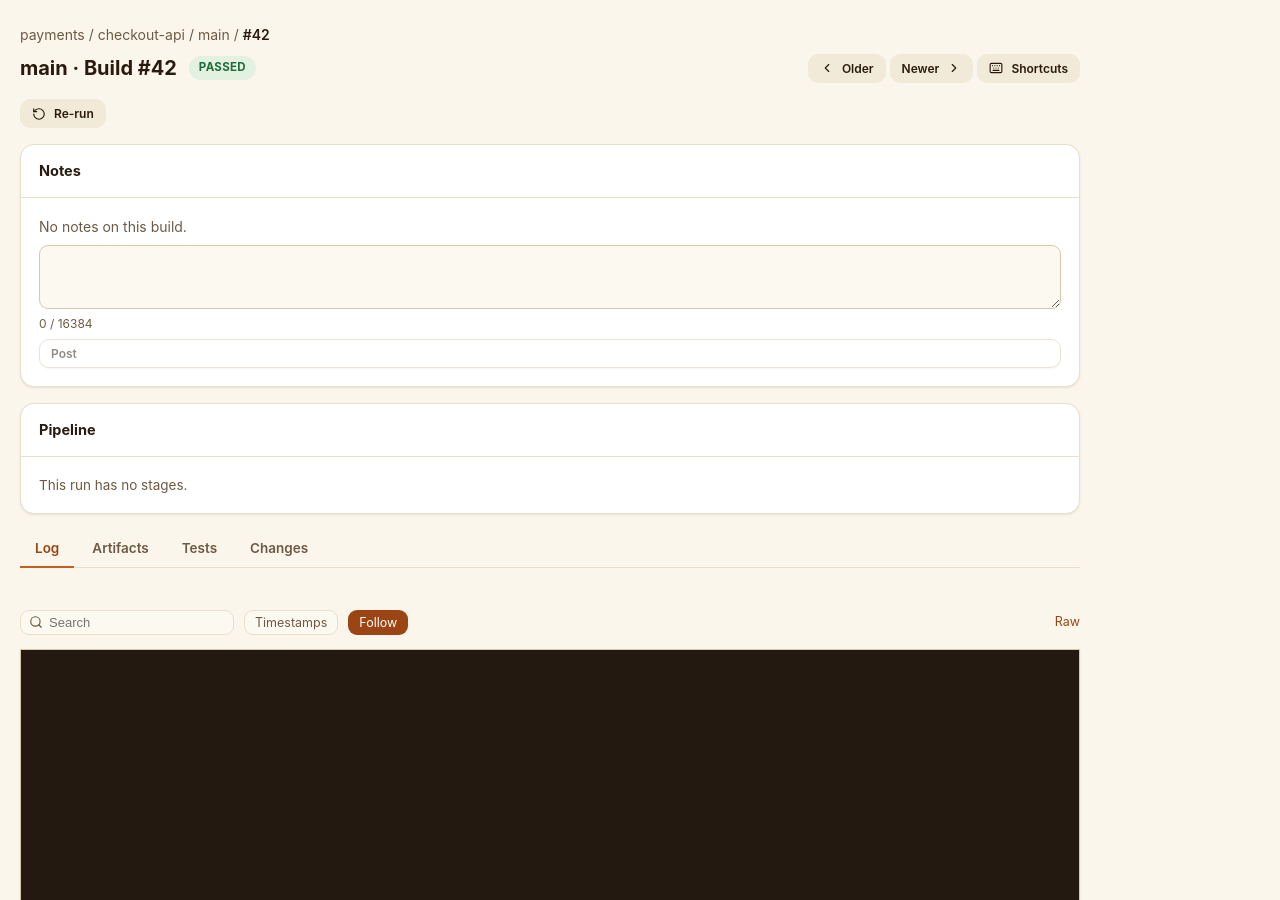
BuildPage keyboard shortcut list › Escape closes the list and returns focus to the Shortcuts button
The width and height of the screenshot is (1280, 900).
Expected: the heading "main · Build #42" is shown, [20,53,177,83]
Click the button "Shortcuts". click: (1029, 68)
box: [977,54,1080,82]
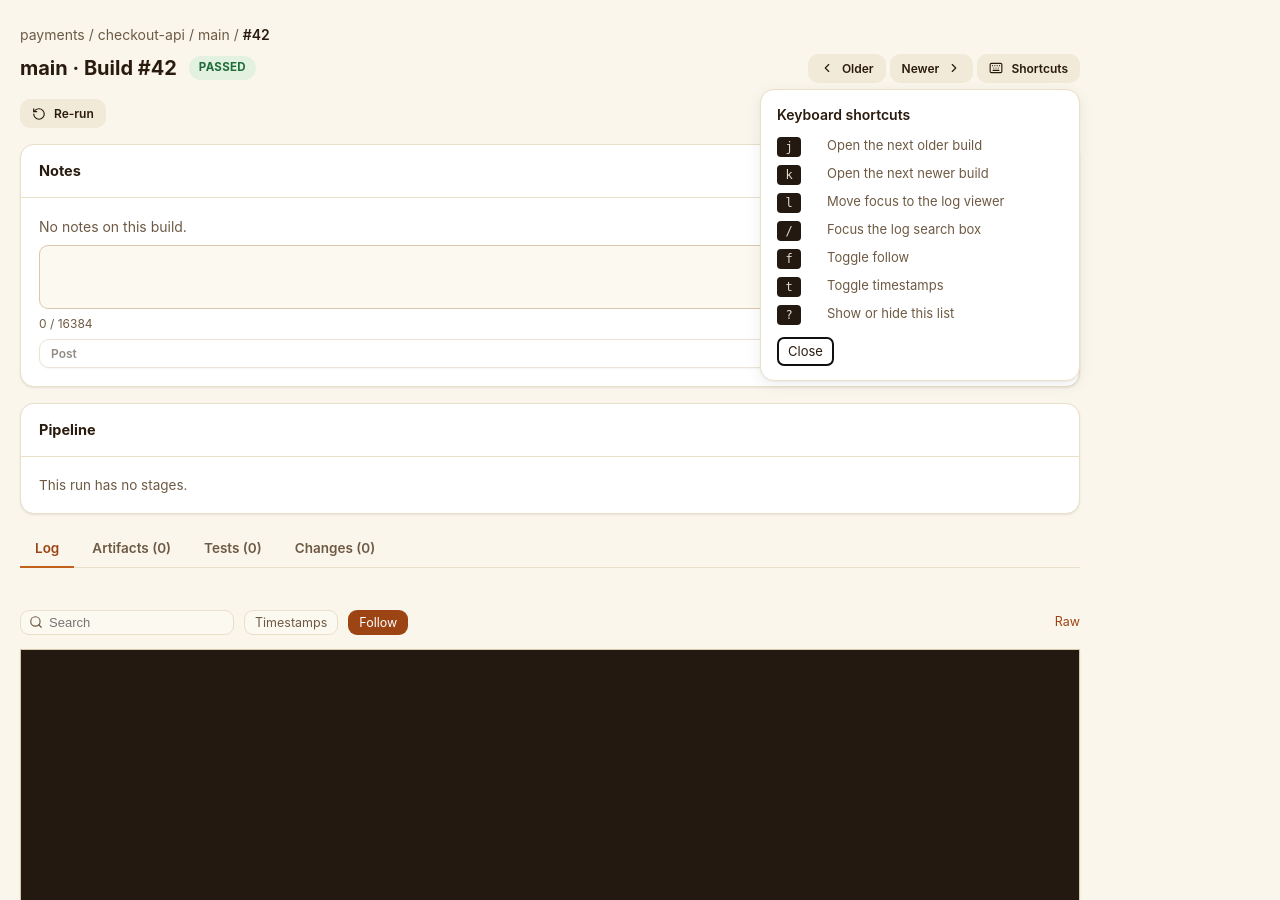
Expected: the dialog "Keyboard shortcuts" is shown, [760,88,1080,381]
Press Escape
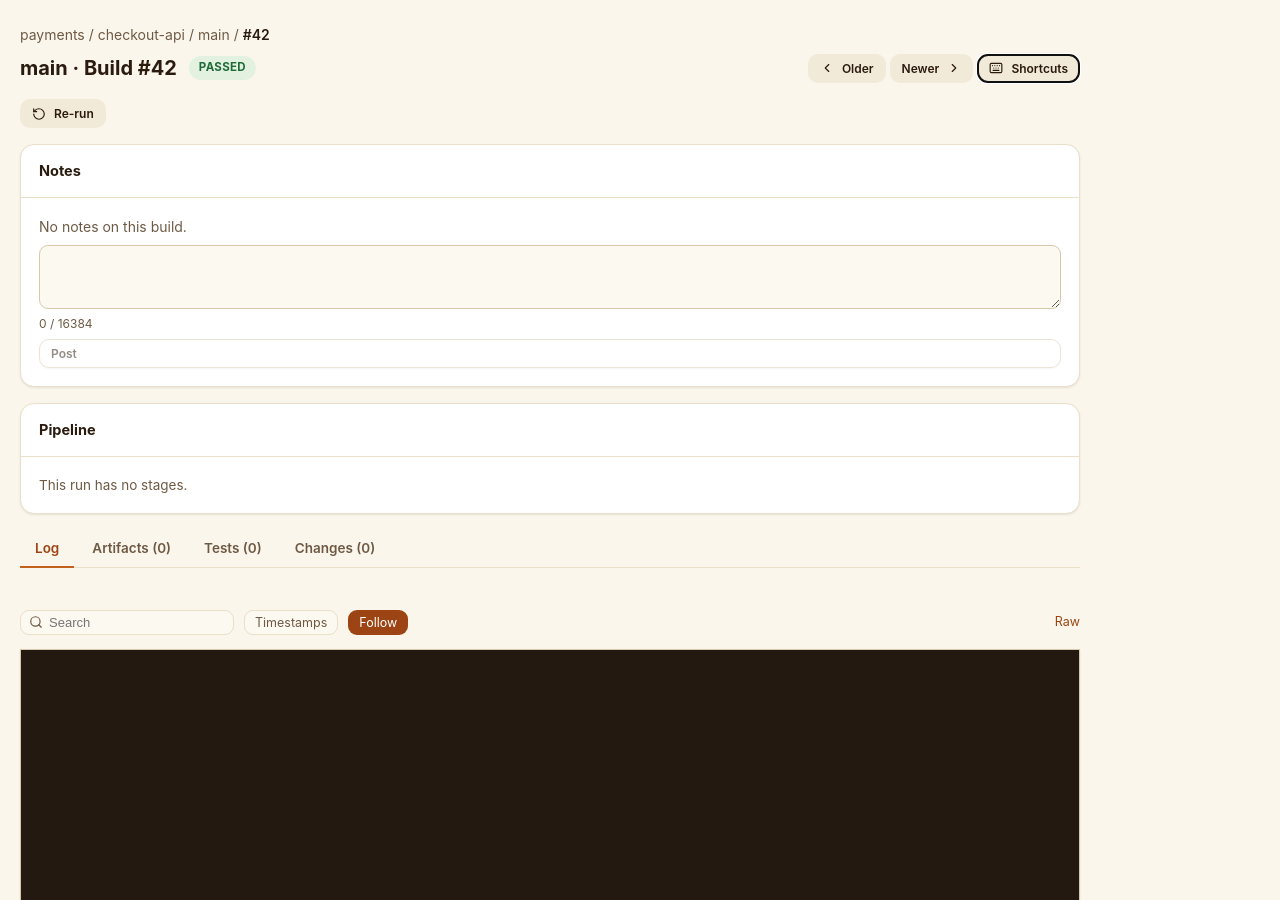
Expected: the heading "Keyboard shortcuts" is gone
